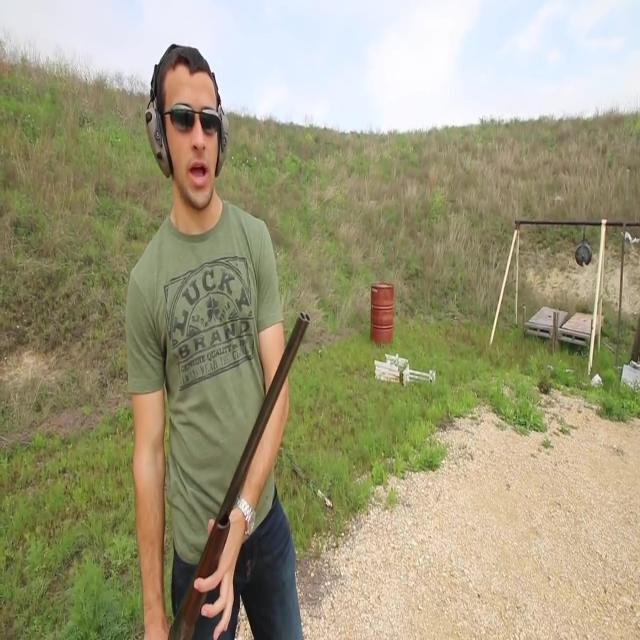Weapon: (158, 284, 426, 640)
